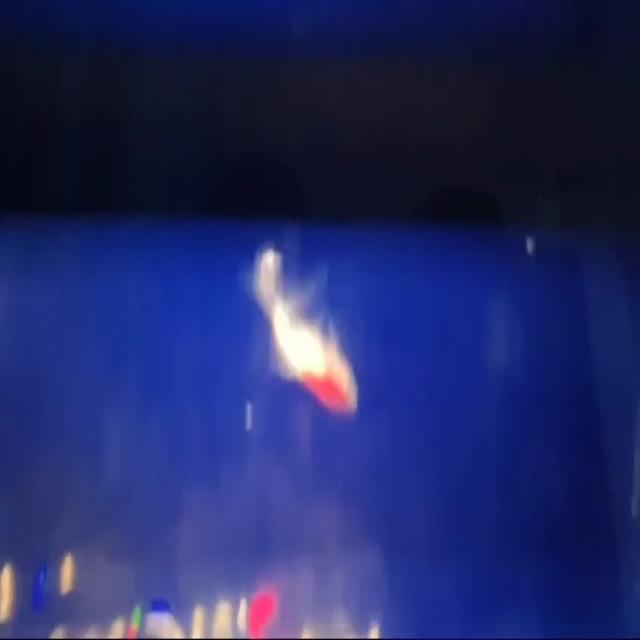fish: (246, 248, 367, 437)
